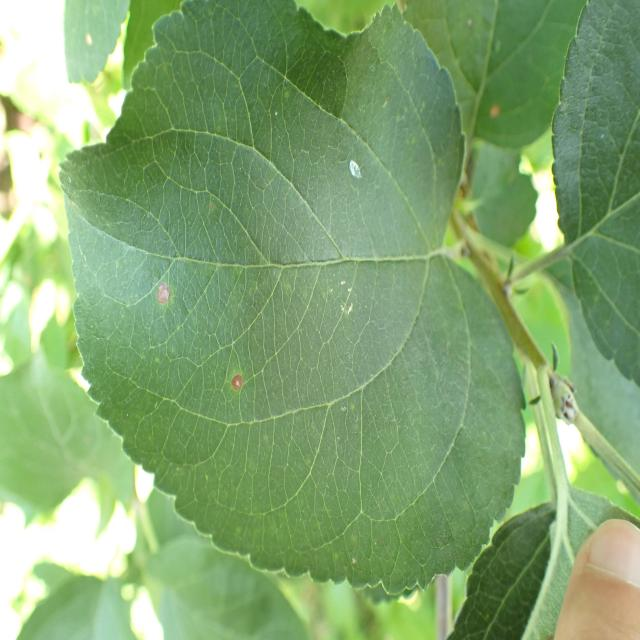frog-eye-leaf-spot: (55, 2, 530, 601), (396, 1, 589, 151)
